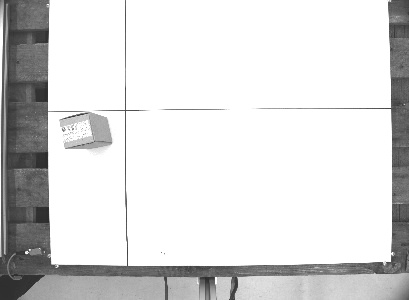b2: (55, 111, 114, 152)
